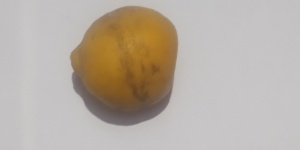BAD: (71, 7, 177, 115)
